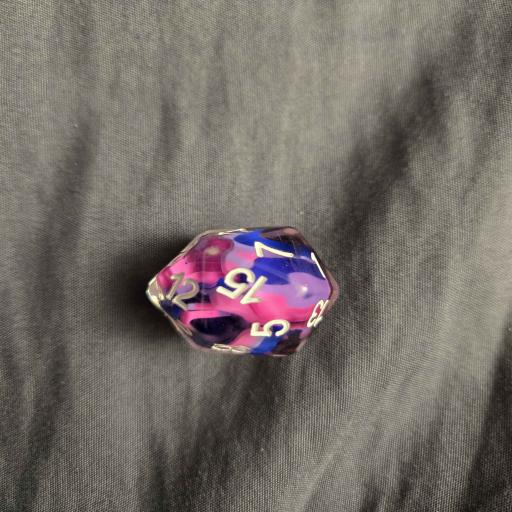twenty sided dice: (144, 226, 339, 357)
